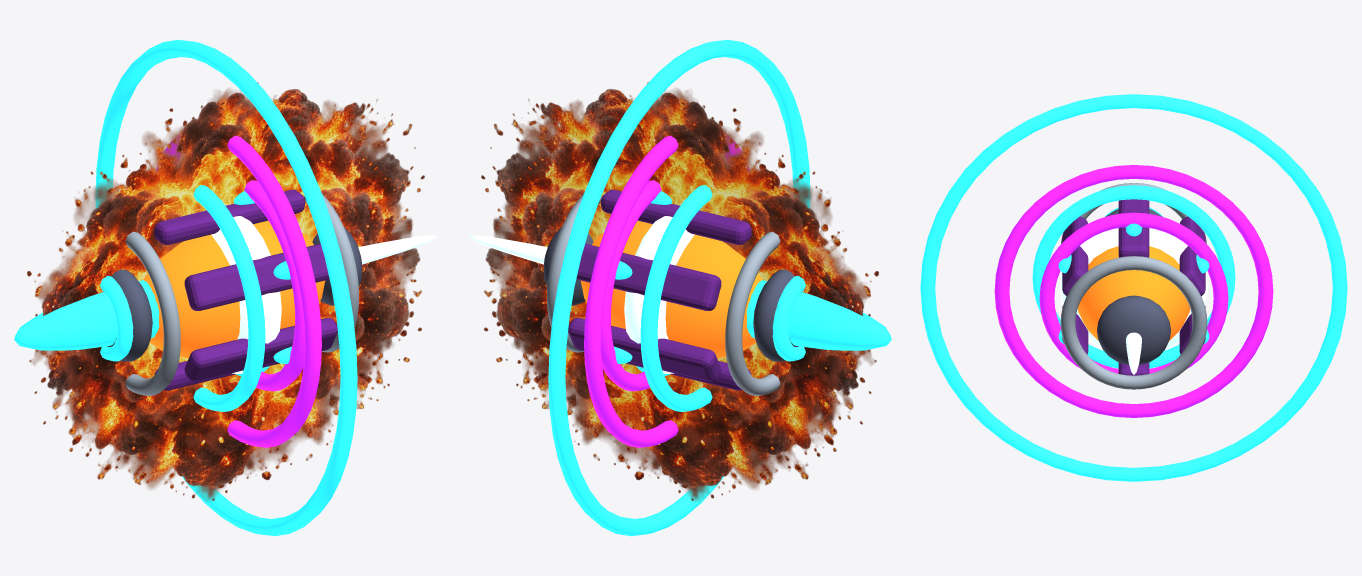
File: prism-shots.glb
3 renders of one model, left to right at view 1: azimuth 30°, elevation 25°; view 2: azimuth 150°, elevation 25°; view 3: azimuth 270°, elevation 25°, orthographic. The views are drawn at different scales.
Visible parts, largest first — view 1: Nova billboard, Toróide.005, Smoke billboard, Toróide.006, Incendiary payload, Toróide.003, Pulse envelope, Grenade armoured rib.005, Toróide.001, Grenade armoured rib.004, Toróide.004, Grenade armoured rib (+7 smaller); view 2: Nova billboard, Toróide.005, Smoke billboard, Toróide.006, Incendiary payload, Toróide.003, Pulse envelope, Grenade armoured rib.001, Toróide.001, Grenade armoured rib.002, Toróide.004, Grenade armoured rib (+7 smaller); view 3: Toróide.005, Toróide.006, Toróide.002, Toróide.004, Toróide.003, Incendiary payload, Impact fuse, Impact flare, Grenade armoured rib, Grenade armoured rib.001, Grenade armoured rib.005.
Part boxes in pixels (bbox=[...]): Nova billboard: bbox=[27, 82, 424, 500]; Toróide.005: bbox=[95, 39, 357, 536]; Smoke billboard: bbox=[27, 83, 424, 500]; Toróide.006: bbox=[156, 134, 321, 447]; Incendiary payload: bbox=[143, 220, 325, 358]; Toróide.003: bbox=[193, 185, 265, 411]; Pulse envelope: bbox=[14, 280, 159, 350]; Grenade armoured rib.005: bbox=[184, 243, 329, 310]; Toróide.001: bbox=[125, 231, 180, 395]; Grenade armoured rib.004: bbox=[184, 318, 337, 381]; Toróide.004: bbox=[244, 180, 304, 391]; Grenade armoured rib: bbox=[154, 189, 304, 244]; Nova billboard: bbox=[481, 82, 878, 500]; Toróide.005: bbox=[548, 39, 810, 536]; Smoke billboard: bbox=[481, 83, 878, 500]; Toróide.006: bbox=[584, 134, 749, 447]; Incendiary payload: bbox=[580, 220, 762, 358]; Toróide.003: bbox=[640, 185, 712, 411]; Pulse envelope: bbox=[746, 280, 891, 350]; Grenade armoured rib.001: bbox=[576, 243, 721, 310]; Toróide.001: bbox=[725, 231, 780, 395]; Grenade armoured rib.002: bbox=[568, 318, 721, 381]; Toróide.004: bbox=[601, 180, 661, 391]; Grenade armoured rib: bbox=[601, 189, 751, 244]; Toróide.005: bbox=[920, 94, 1347, 481]; Toróide.006: bbox=[994, 165, 1273, 417]; Toróide.002: bbox=[1060, 256, 1207, 389]; Toróide.004: bbox=[1039, 212, 1228, 373]; Toróide.003: bbox=[1032, 185, 1235, 368]; Incendiary payload: bbox=[1077, 246, 1190, 340]; Impact fuse: bbox=[1097, 295, 1170, 365]; Impact flare: bbox=[1060, 228, 1207, 349]; Grenade armoured rib: bbox=[1118, 199, 1149, 257]; Grenade armoured rib.001: bbox=[1179, 216, 1205, 296]; Grenade armoured rib.005: bbox=[1062, 216, 1088, 296].
Bounding box in the file's own units: 1 × 1.04 × 1.04.
Materials: 9 (2 with a texture image).
